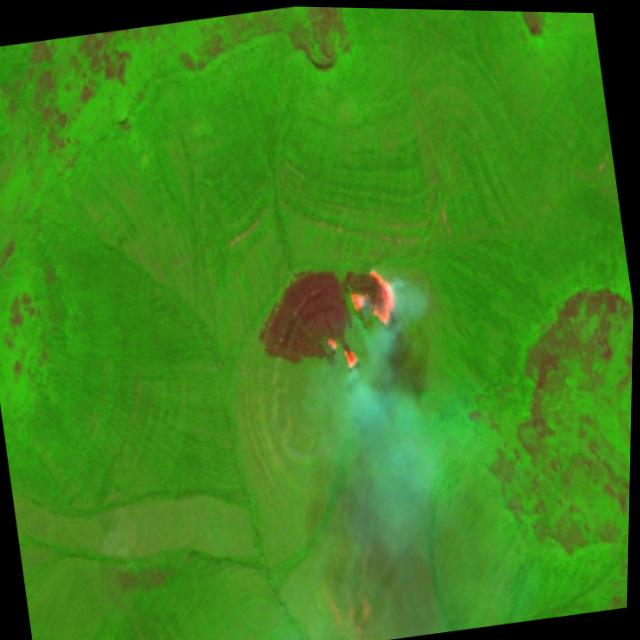fire: (317, 256, 409, 378)
